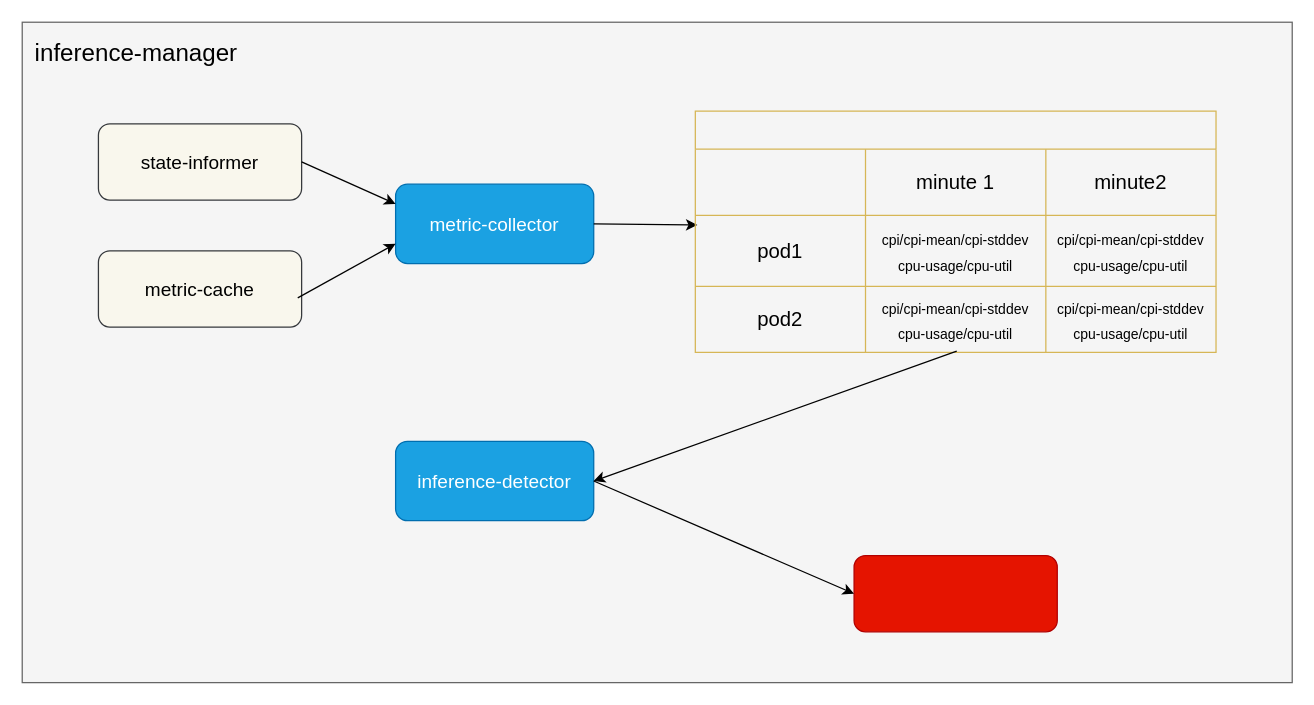
Image size: 1314x705. Some labels were removed from this diagram. The box of each missing label's shape, as (x1, y1, x2, y2) in pixels:
metric-store: (694, 110, 1216, 352)
victims & antagonists: (853, 554, 1057, 632)
